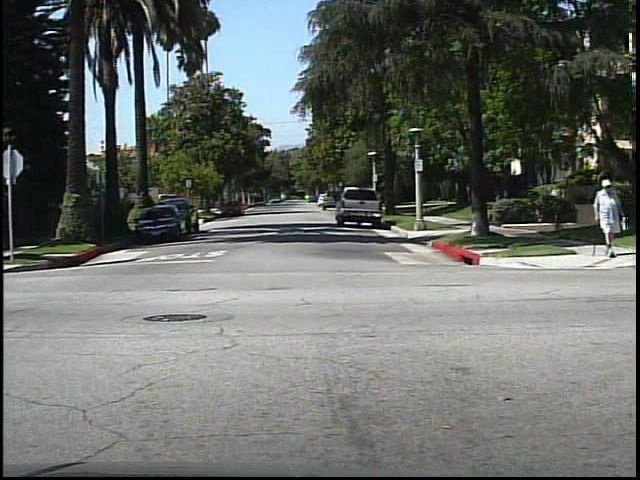person: (592, 173, 628, 259)
